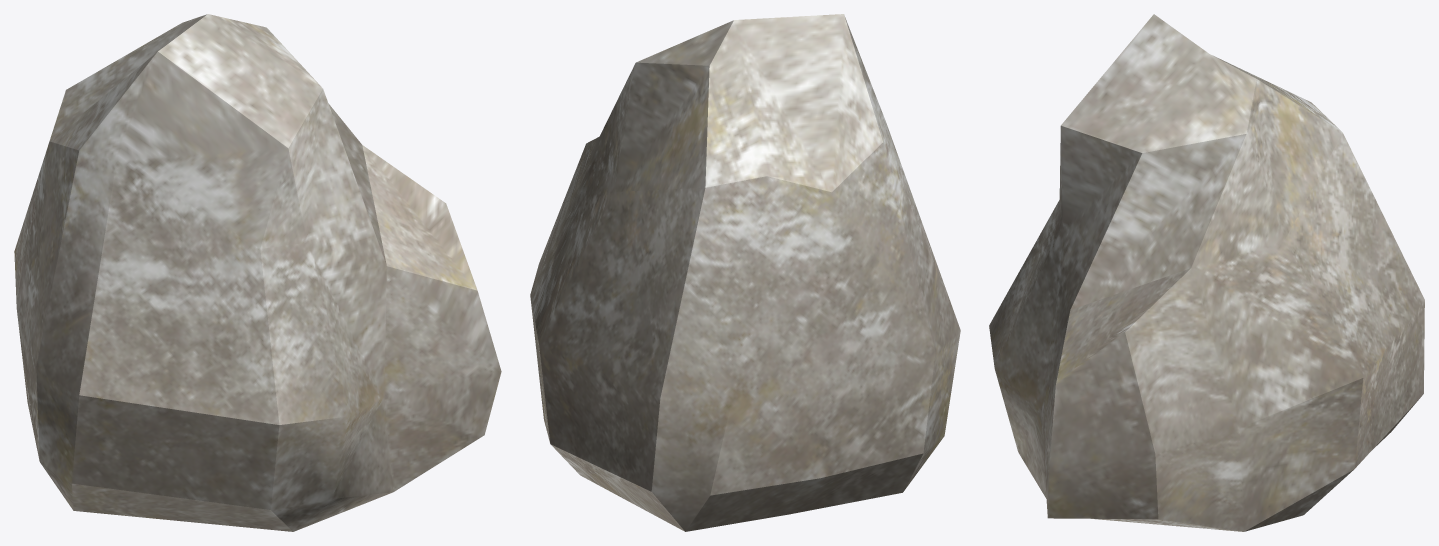
The model's file is round_rock_15_dream.glb.
The picture shows the model from 3 angles, left to right: view 1: azimuth 30°, elevation 25°; view 2: azimuth 150°, elevation 25°; view 3: azimuth 270°, elevation 25°; orthographic projection. The views are drawn at different scales.
Visible parts, largest first — view 1: round_rock_15; view 2: round_rock_15; view 3: round_rock_15.
Boxes of the visible parts, x1=… form: round_rock_15: x1=14, y1=14, x2=501, y2=531; round_rock_15: x1=530, y1=14, x2=960, y2=531; round_rock_15: x1=989, y1=14, x2=1424, y2=531.
Size of the model in its own units: 4.84 by 5.21 by 4.77.
Materials: 1 (1 with a texture image).
